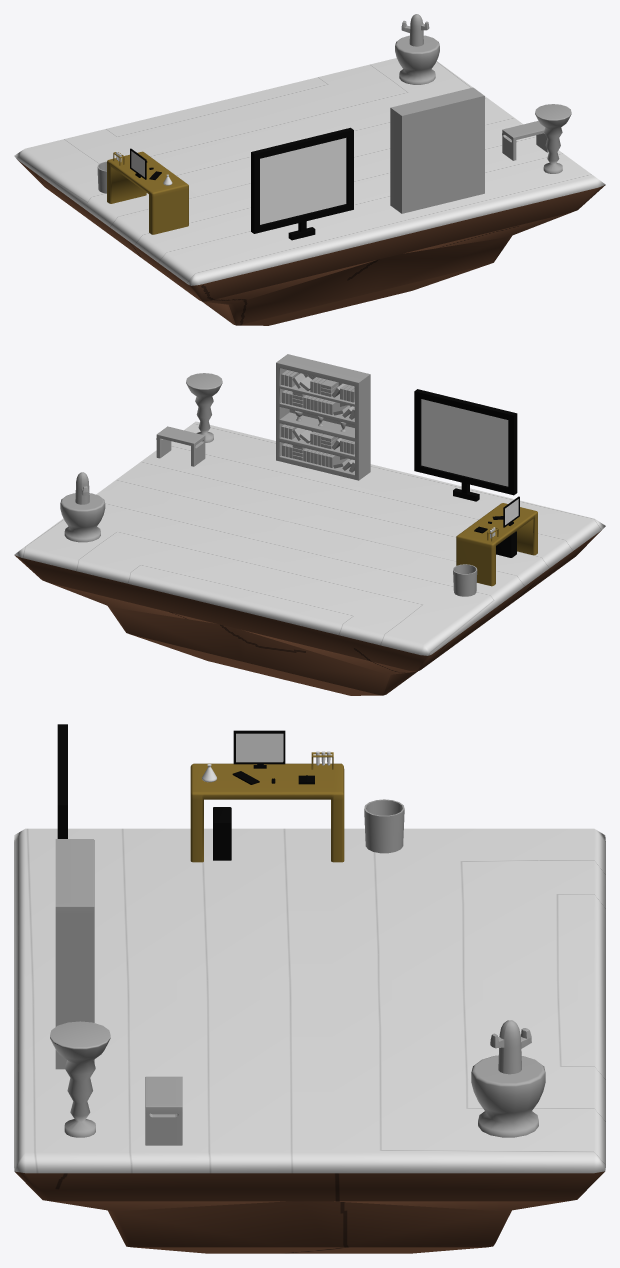
File: MenuScene.fbx
3 renders of one model, top to bottom at view 1: azimuth 30°, elevation 25°; view 2: azimuth 150°, elevation 25°; view 3: azimuth 270°, elevation 25°, orthographic. The views are drawn at different scales.
Parts seen in each view (by area): view 1: Island, BookShelf, TvScreen, Table, Tv, Kruka, Pedestal, Bench, Cactus; view 2: Island, BookShelf, TvScreen, Table, Tv, Kruka, Pedestal, Bench, Bin; view 3: Island, BookShelf, Table, Kruka, Pedestal, Bench, Bin, Cactus, CompScreen, Tv, Computer.
Boxes of the visible parts, bbox=[...] form: Island: bbox=[14, 58, 605, 325]; BookShelf: bbox=[390, 87, 484, 213]; TvScreen: bbox=[260, 138, 346, 224]; Table: bbox=[107, 151, 188, 234]; Tv: bbox=[251, 127, 353, 240]; Kruka: bbox=[395, 35, 439, 84]; Pedestal: bbox=[535, 104, 571, 173]; Bench: bbox=[502, 121, 548, 160]; Cactus: bbox=[401, 14, 429, 46]; Island: bbox=[14, 421, 605, 695]; BookShelf: bbox=[276, 354, 370, 480]; TvScreen: bbox=[421, 399, 508, 486]; Table: bbox=[456, 503, 537, 586]; Tv: bbox=[414, 389, 517, 501]; Kruka: bbox=[60, 493, 105, 542]; Pedestal: bbox=[186, 373, 222, 442]; Bench: bbox=[156, 426, 205, 466]; Bin: bbox=[453, 564, 477, 596]; Island: bbox=[14, 828, 605, 1253]; BookShelf: bbox=[55, 839, 94, 1069]; Table: bbox=[190, 763, 344, 862]; Kruka: bbox=[471, 1055, 545, 1137]; Pedestal: bbox=[50, 1021, 110, 1137]; Bench: bbox=[145, 1076, 182, 1145]; Bin: bbox=[364, 799, 404, 853]; Cactus: bbox=[490, 1020, 531, 1074]; CompScreen: bbox=[236, 733, 282, 762]; Tv: bbox=[57, 724, 67, 838]; Computer: bbox=[213, 807, 231, 860].
Bounding box in the file's own units: 26.09 × 14.69 × 19.37.
